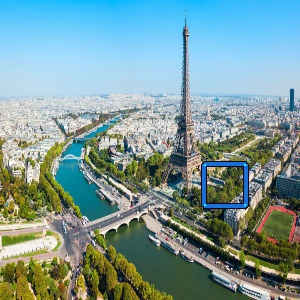square: (200, 161, 250, 209), (257, 205, 296, 245)
